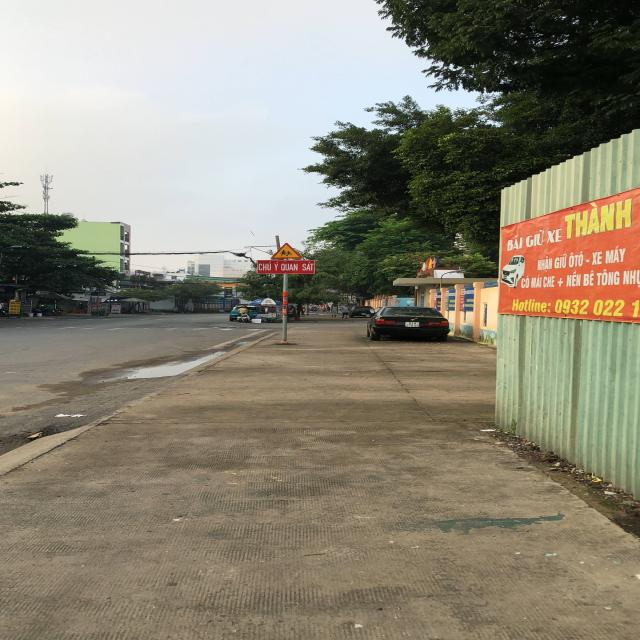Bien bao tre em: (269, 240, 305, 261)
